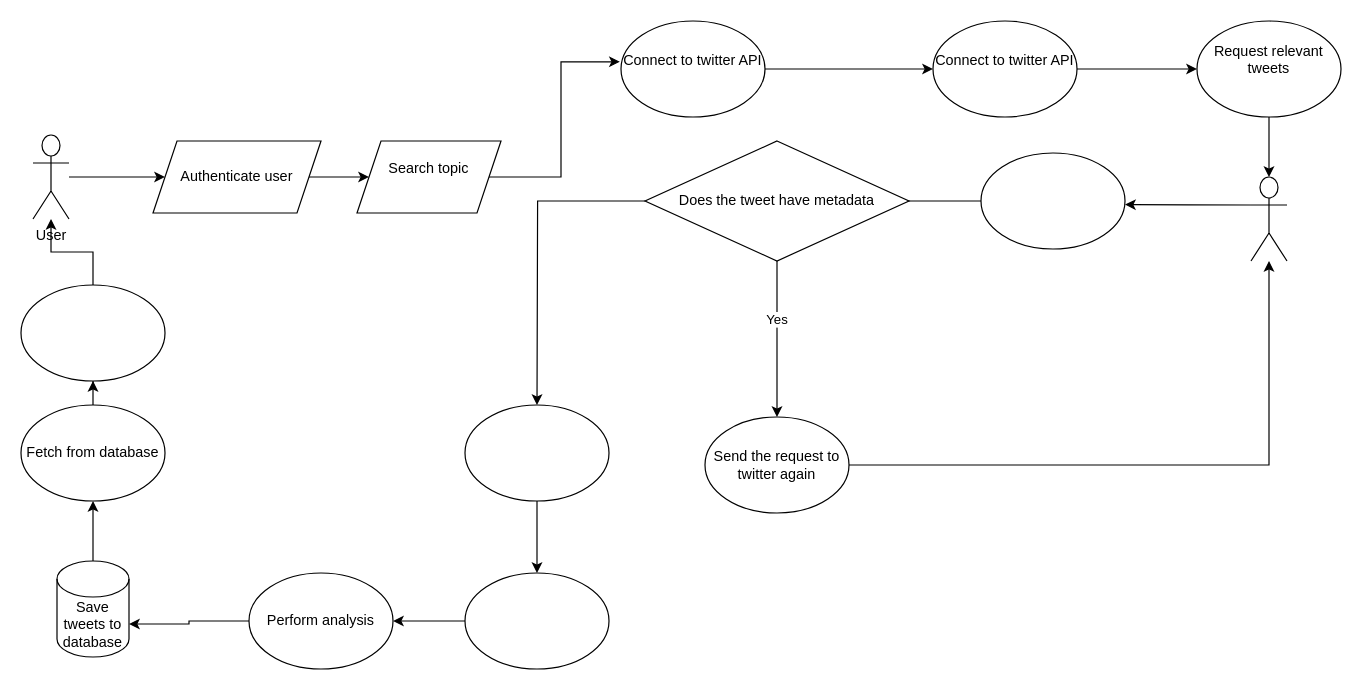
Some shapes in this 1362 by 690 pixel diagram are drawn without their labels. The box of each missing label's shape, as (x1, y1, x2, y2) in pixels:
Display the information to the user: (20, 284, 165, 381)
Extract tweet information: (464, 404, 609, 501)
Process information: (464, 572, 609, 669)
Respond with relevant tweets: (980, 152, 1125, 249)
Twitter API: (1250, 176, 1287, 261)
